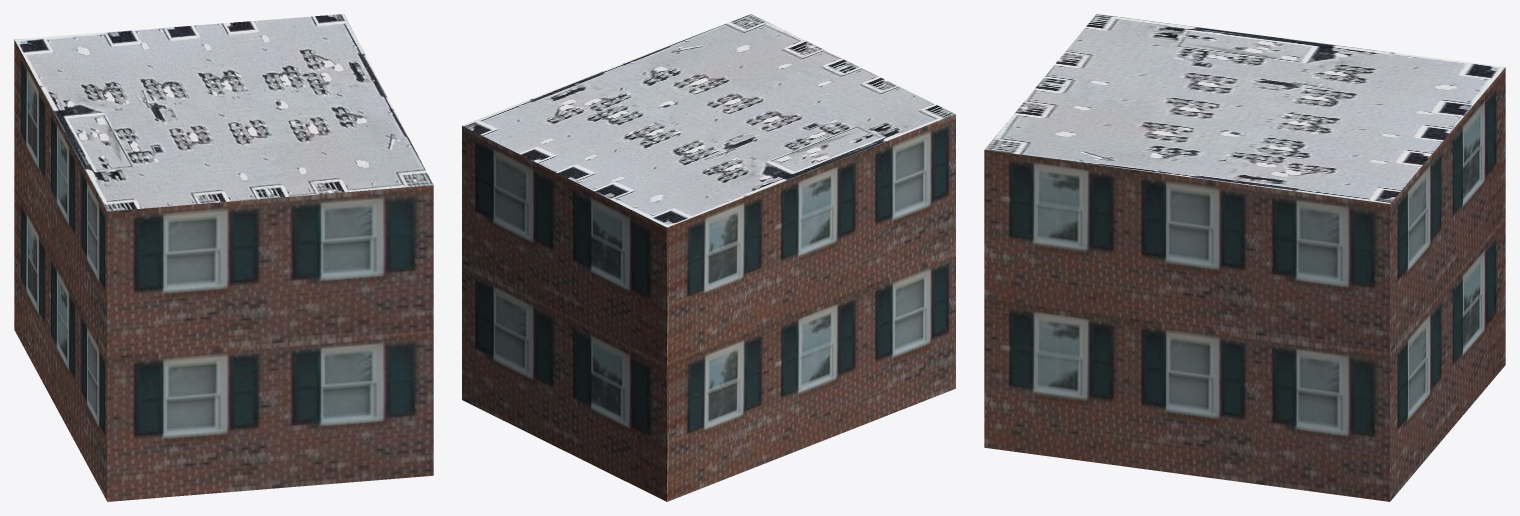
The model's file is ResTex__3134.fbx.
3 views of the same model, side by side, from view 1: azimuth 30°, elevation 25°; view 2: azimuth 150°, elevation 25°; view 3: azimuth 270°, elevation 25° (orthographic). The views are drawn at different scales.
Parts seen in each view (by area): view 1: CityEngineMaterial_14_m, CityEngineMaterial_2_m; view 2: CityEngineMaterial_14_m, CityEngineMaterial_2_m; view 3: CityEngineMaterial_14_m, CityEngineMaterial_2_m.
Part boxes in pixels (x1,y1,x2,y2): CityEngineMaterial_14_m: (14,40,433,501); CityEngineMaterial_2_m: (14,14,433,211); CityEngineMaterial_14_m: (462,114,955,501); CityEngineMaterial_2_m: (462,14,955,227); CityEngineMaterial_14_m: (984,67,1505,501); CityEngineMaterial_2_m: (984,14,1504,203).
Size of the model in its own units: 8.21 by 6 by 9.51.
Materials: 2 (2 with a texture image).
